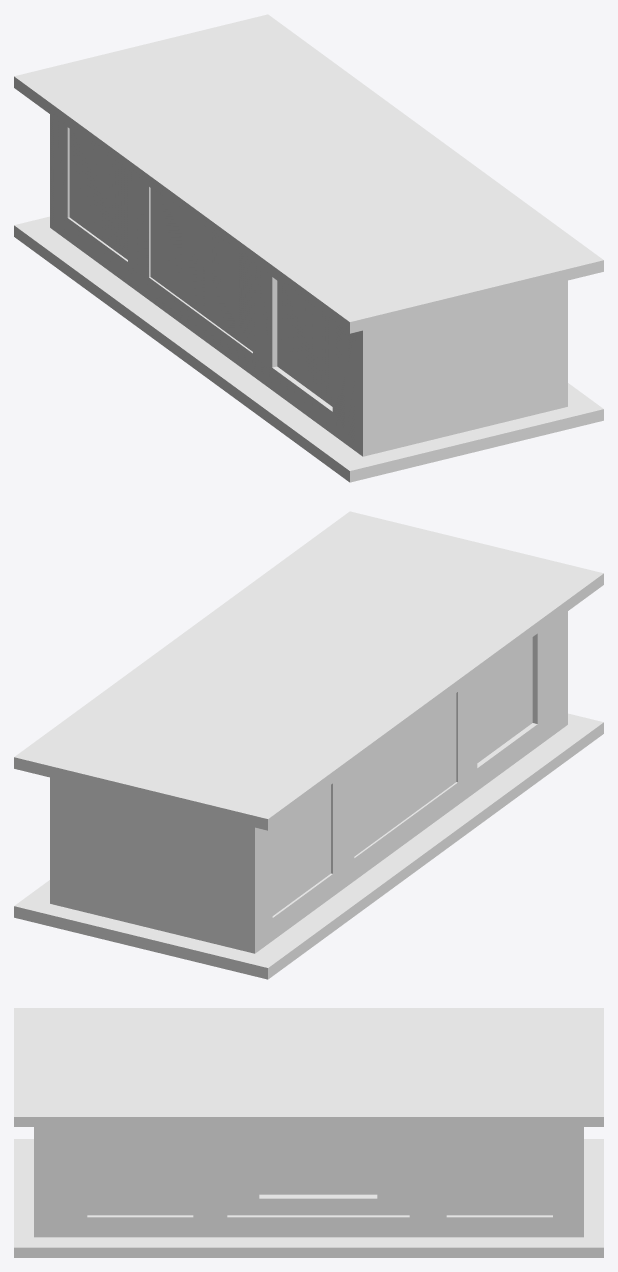
Rendered from desk.obj.
3 views of the same model, one above another, from view 1: azimuth 30°, elevation 25°; view 2: azimuth 150°, elevation 25°; view 3: azimuth 270°, elevation 25° (orthographic). The views are drawn at different scales.
Parts seen in each view (by area): view 1: pCube14; view 2: pCube14; view 3: pCube14.
Part boxes in pixels (x1,y1,x2,y2): pCube14: [14, 14, 603, 482]; pCube14: [14, 511, 603, 979]; pCube14: [14, 1008, 603, 1257].
Size of the model in its own units: 1.24 by 0.7474 by 2.84.
Materials: 1 (1 with a texture image).
